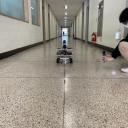cart: (56, 49, 73, 64)
